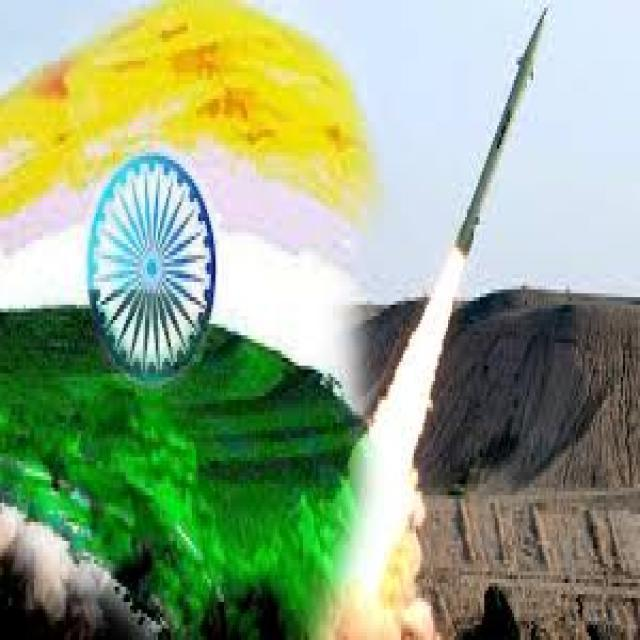Missile: (450, 0, 561, 270)
